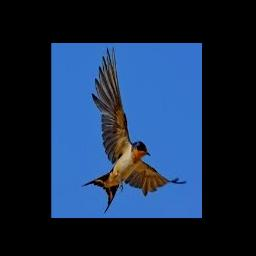Swallow: (81, 47, 186, 214)
